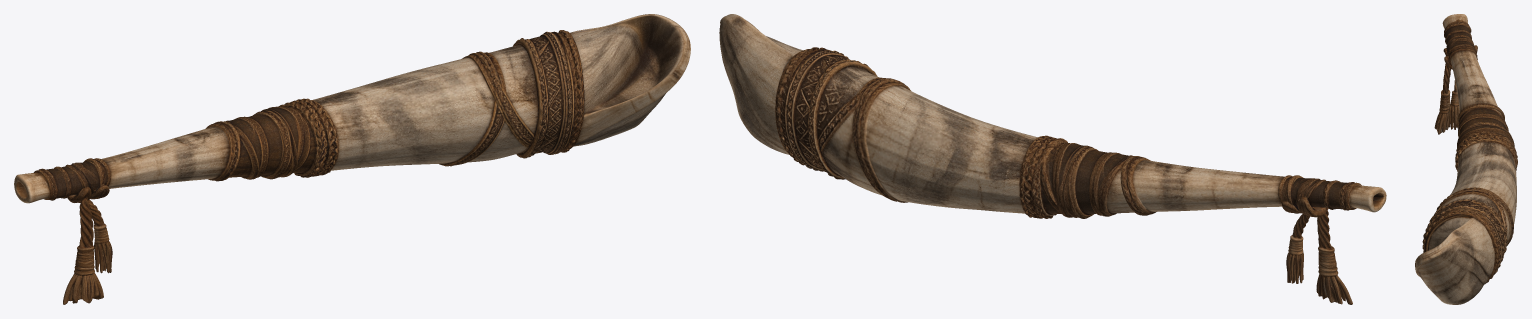
File: Meshy_AI_Ancient_Ceremonial_Ho_0924161751_texture.fbx
3 renders of one model, left to right at view 1: azimuth 30°, elevation 25°; view 2: azimuth 150°, elevation 25°; view 3: azimuth 270°, elevation 25°, orthographic. The views are drawn at different scales.
Visible parts, largest first — view 1: Mesh_0; view 2: Mesh_0; view 3: Mesh_0.
Part boxes in pixels (left/top/right/bottom): Mesh_0: left=14, top=14, right=690, bottom=304; Mesh_0: left=719, top=14, right=1386, bottom=304; Mesh_0: left=1415, top=14, right=1517, bottom=304.
Size of the model in its own units: 190 by 39.43 by 34.49.
Materials: 1 (1 with a texture image).
